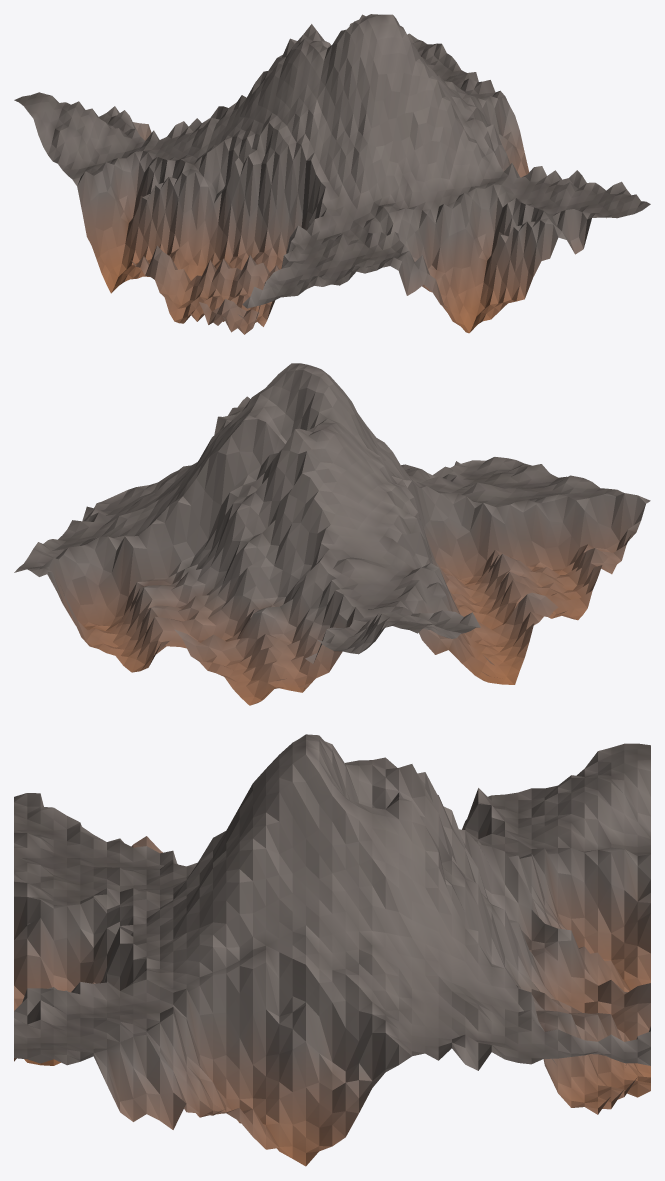
File: volcanic_lod1.glb
3 views of the same model, one above another, from view 1: azimuth 30°, elevation 25°; view 2: azimuth 150°, elevation 25°; view 3: azimuth 270°, elevation 25° (orthographic). The views are drawn at different scales.
Visible parts, largest first — view 1: world; view 2: world; view 3: world.
Part boxes in pixels (bbox=[...]): world: bbox=[14, 14, 650, 334]; world: bbox=[14, 363, 650, 705]; world: bbox=[14, 734, 650, 1166].
Size of the model in its own units: 2 by 1.14 by 2.
